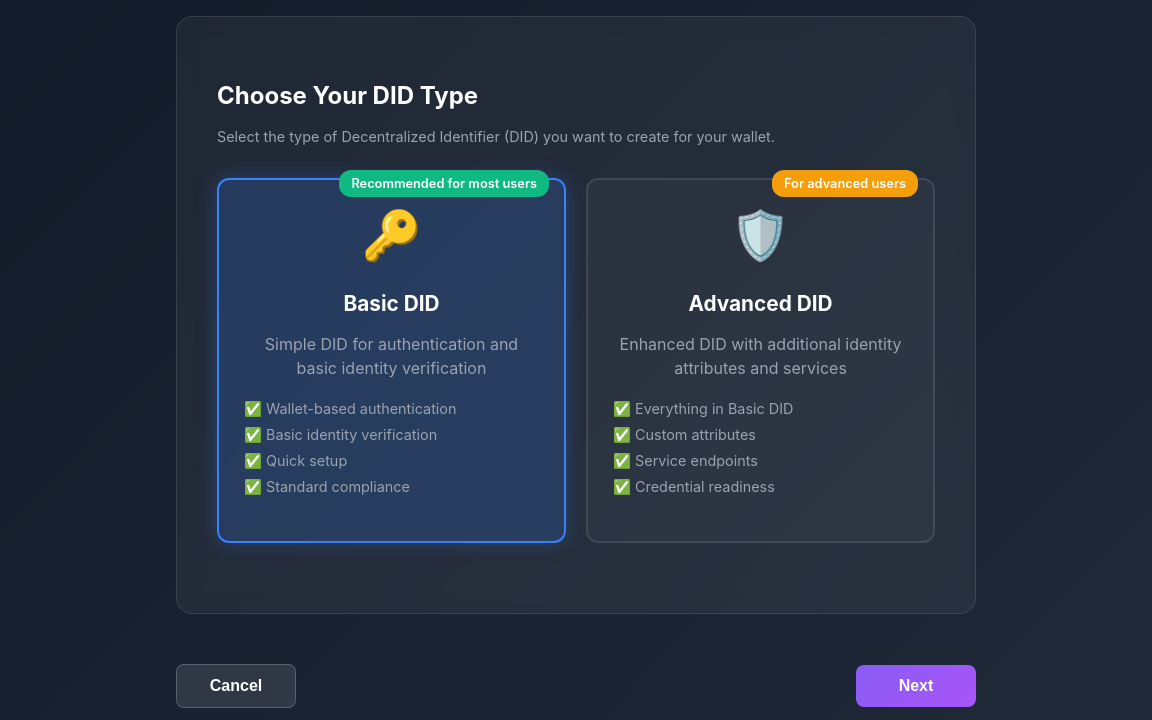
Test case: DIDWizard › Step 2: Advanced Configuration (Advanced DID only) › shows advanced configuration options for Advanced DID
This screenshot has width=1152, height=720.
(page scrolled)
Click the text "Advanced DID": (760, 360) [586,178,935,543]
(page scrolled)
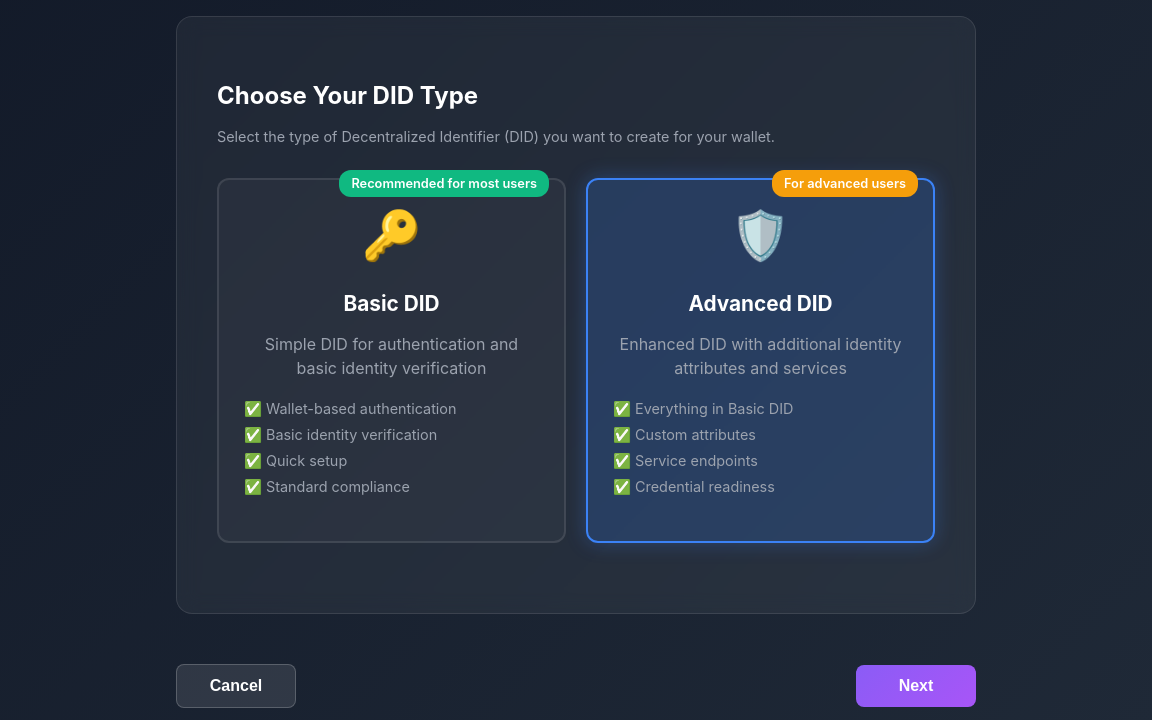
Click the button "Next": (916, 686) [856,665,976,707]
(page scrolled)
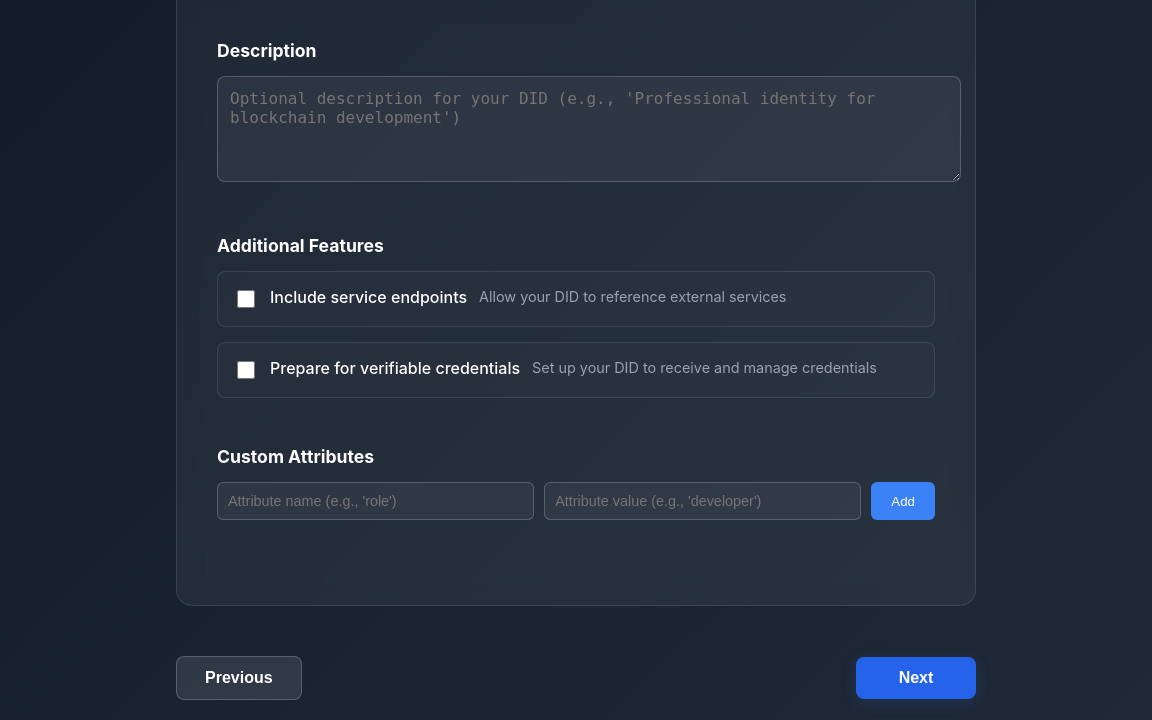
Expected: the heading "Custom Attributes" is shown, [217,446,374,467]
Now the heading "Description" is shown, box [217,40,316,62]
Now the heading "Additional Features" is shown, box [217,235,384,256]
